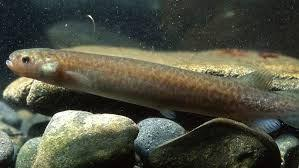Mudfish: (9, 44, 299, 123)
